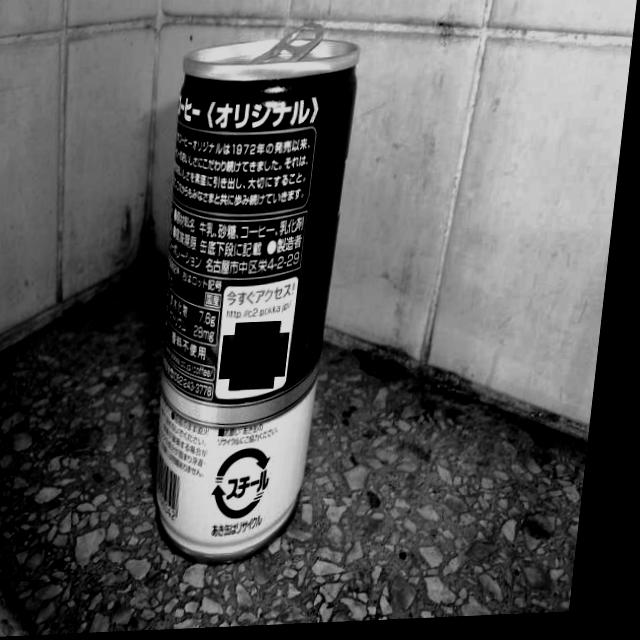qr_code: (233, 330, 293, 388)
